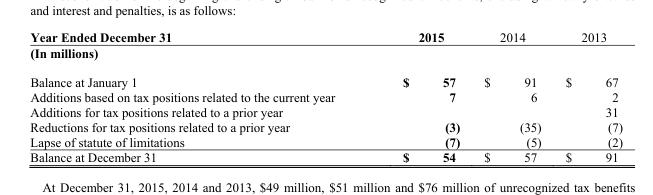table: (29, 29, 622, 164)
table column: (29, 29, 368, 164), (368, 29, 471, 164), (471, 29, 552, 164), (552, 29, 622, 164)
table column header: (29, 29, 622, 44)
table projected row header: (29, 44, 622, 67)
table row: (29, 44, 622, 67), (29, 67, 622, 89), (29, 133, 622, 149), (29, 29, 622, 44), (29, 89, 622, 104), (29, 118, 622, 133), (29, 149, 622, 164), (29, 104, 622, 118)
